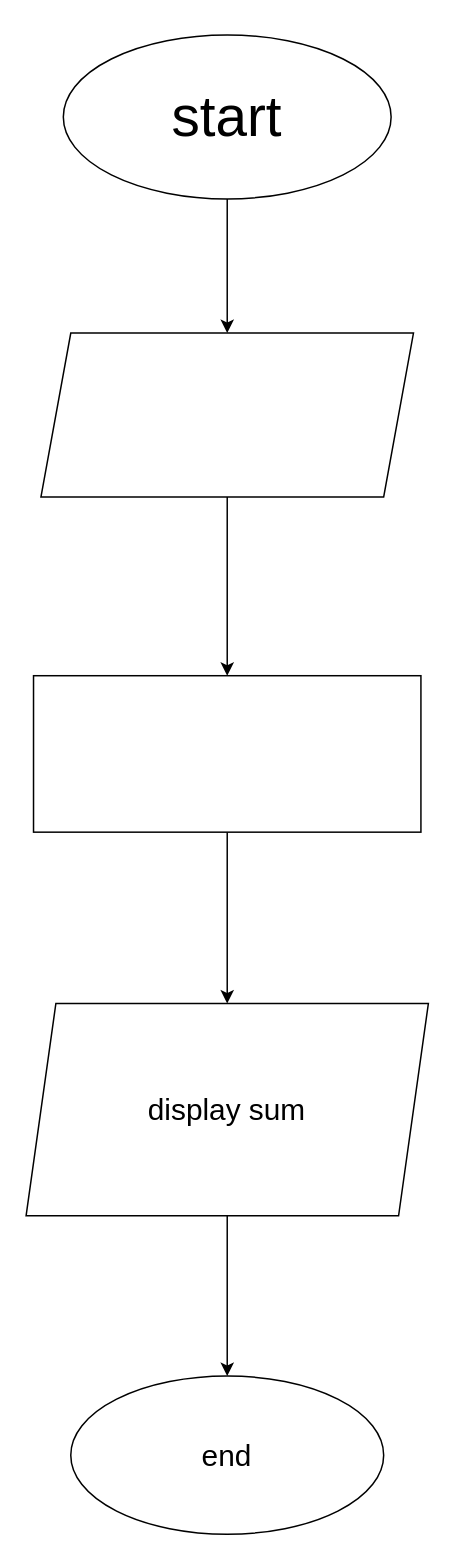
Image size: 454x1560. Some labels were removed from this diagram. The centre of each missing label's shape, as x and y in pixels:
"Read num1 and num2" goes at [226,414].
"sum = num1+ num2" goes at [226,753].
